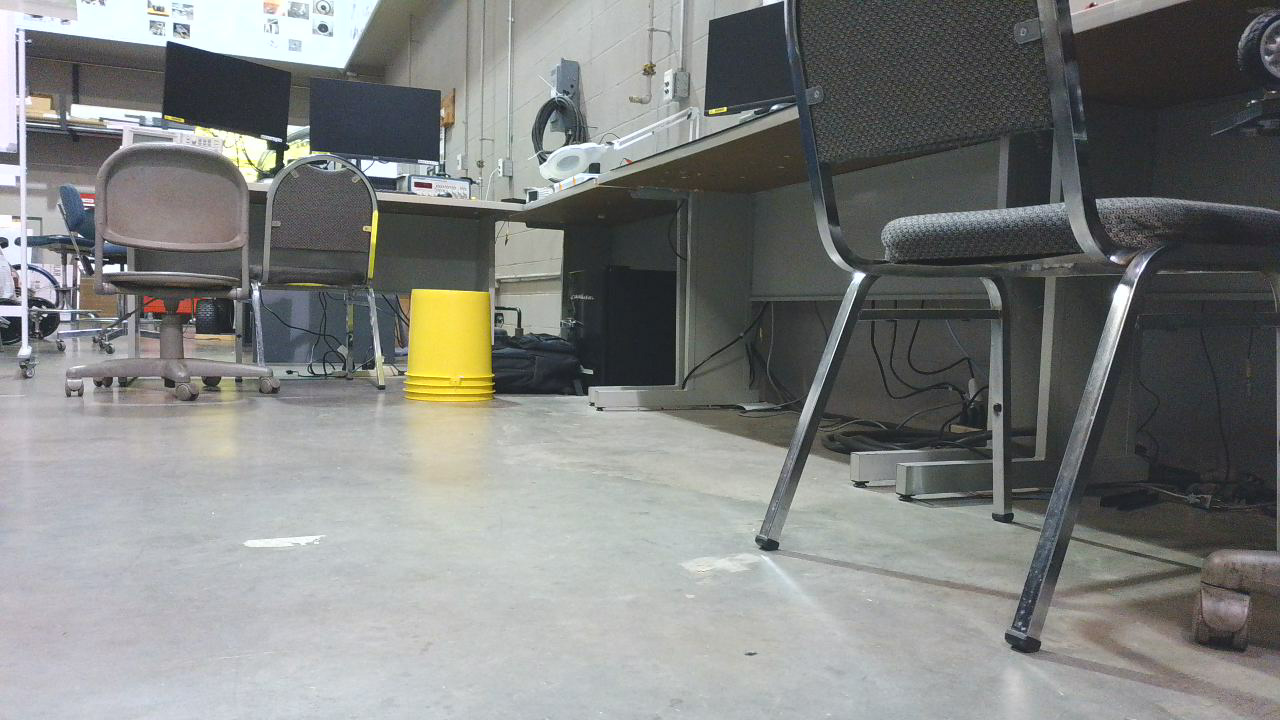yellow_bucket: (405, 292, 502, 410)
